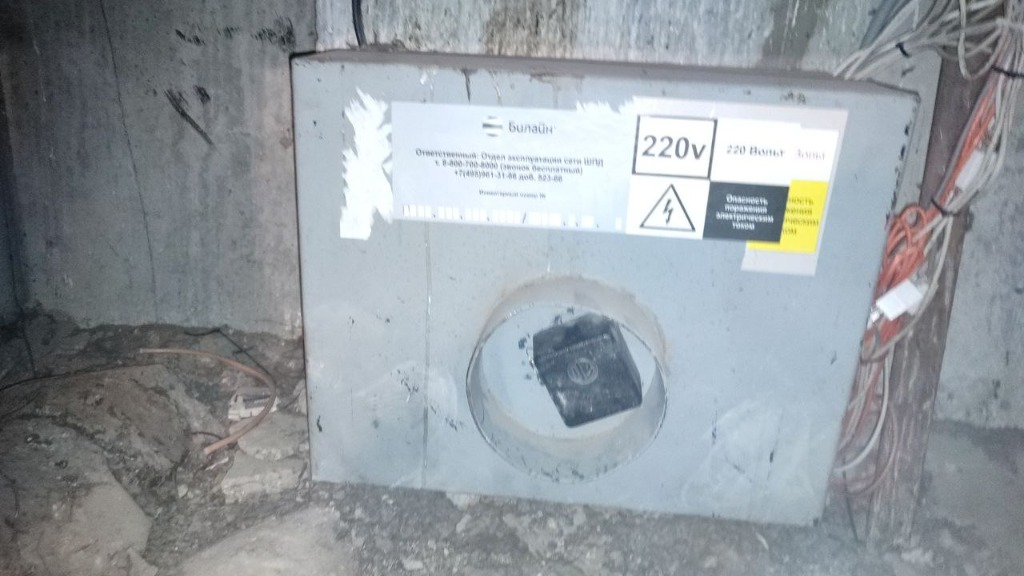shta-3: (286, 45, 926, 532)
